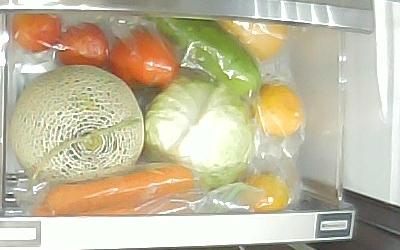cabbage: (144, 77, 255, 187)
carrot_vinyl: (44, 164, 194, 215)
melon: (9, 65, 145, 180)
pear_vinyl: (217, 20, 286, 63)
prune_vinyl: (59, 22, 110, 70), (9, 13, 62, 52)
tangerine_vinyl: (252, 83, 303, 137), (239, 174, 290, 211)
tomato_vinyl: (108, 29, 180, 92)
zucchini_vinyl: (148, 17, 263, 95)
